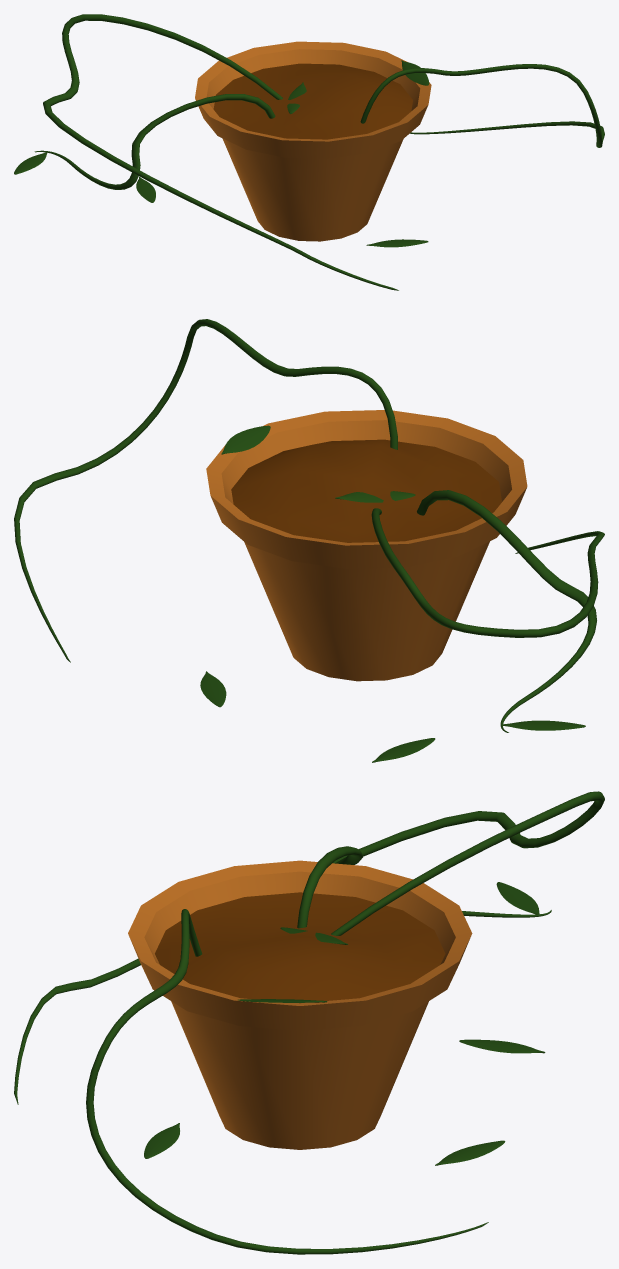
The model's file is цветок.fbx.
The picture shows the model from 3 angles, top to bottom: view 1: azimuth 30°, elevation 25°; view 2: azimuth 150°, elevation 25°; view 3: azimuth 270°, elevation 25°; orthographic projection. The views are drawn at different scales.
Parts seen in each view (by area): view 1: Cylinder, BezierCurve.002, BezierCurve.001, BezierCurve; view 2: Cylinder, BezierCurve.001, BezierCurve.002, BezierCurve, Plane.006, Plane, Plane.003, Plane.004; view 3: Cylinder, BezierCurve.002, BezierCurve.001, BezierCurve, Plane.003, Plane.004, Plane, Plane.005.
Boxes of the visible parts, left/top/right/bottom form: Cylinder: left=195, top=41, right=431, bottom=241; BezierCurve.002: left=43, top=14, right=398, bottom=290; BezierCurve.001: left=360, top=64, right=604, bottom=147; BezierCurve: left=34, top=94, right=275, bottom=189; Cylinder: left=206, top=410, right=527, bottom=681; BezierCurve.001: left=14, top=319, right=397, bottom=662; BezierCurve.002: left=371, top=508, right=604, bottom=637; BezierCurve: left=417, top=490, right=596, bottom=732; Plane.006: left=221, top=425, right=270, bottom=454; Plane: left=503, top=720, right=585, bottom=730; Plane.003: left=372, top=738, right=435, bottom=762; Plane.004: left=200, top=671, right=226, bottom=707; Cylinder: left=128, top=860, right=472, bottom=1149; BezierCurve.002: left=14, top=791, right=604, bottom=1104; BezierCurve.001: left=86, top=909, right=488, bottom=1254; BezierCurve: left=297, top=846, right=551, bottom=928; Plane.003: left=459, top=1039, right=545, bottom=1053; Plane.004: left=435, top=1140, right=505, bottom=1165; Plane: left=496, top=882, right=539, bottom=914; Plane.005: left=144, top=1123, right=179, bottom=1158.
Size of the model in its own units: 707 by 223 by 504.
